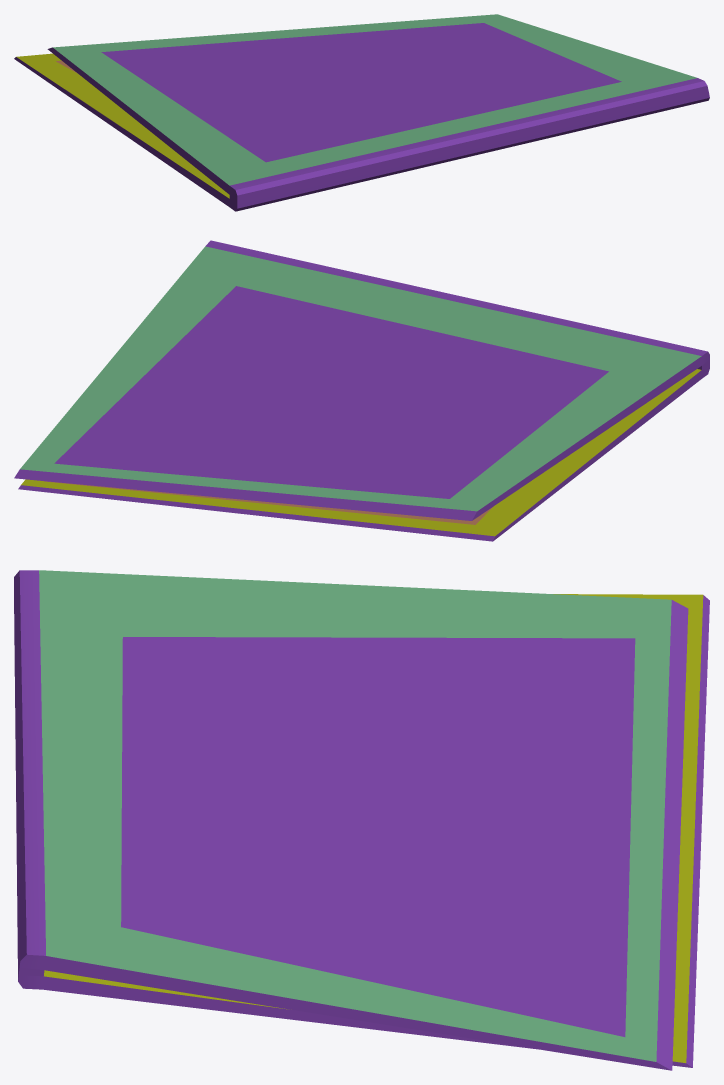
File: Erin_T6_newspaper.fbx
3 views of the same model, one above another, from view 1: azimuth 30°, elevation 25°; view 2: azimuth 150°, elevation 25°; view 3: azimuth 270°, elevation 25° (orthographic). The views are drawn at different scales.
Visible parts, largest first — view 1: Newspaper; view 2: Newspaper; view 3: Newspaper.
Boxes of the visible parts, left/top/right/bottom form: Newspaper: left=14, top=14, right=709, bottom=211; Newspaper: left=14, top=240, right=709, bottom=541; Newspaper: left=14, top=570, right=709, bottom=1070.
Bounding box in the file's own units: 49.55 × 8.68 × 38.23.
